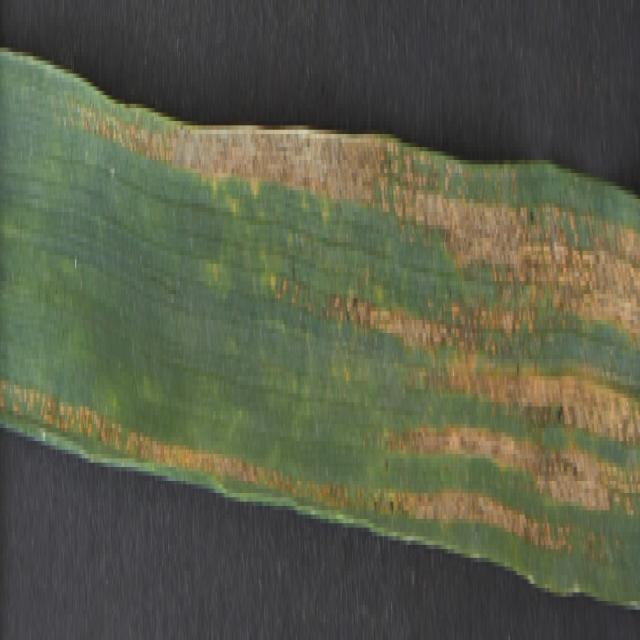leaf rust: (78, 95, 640, 584)
